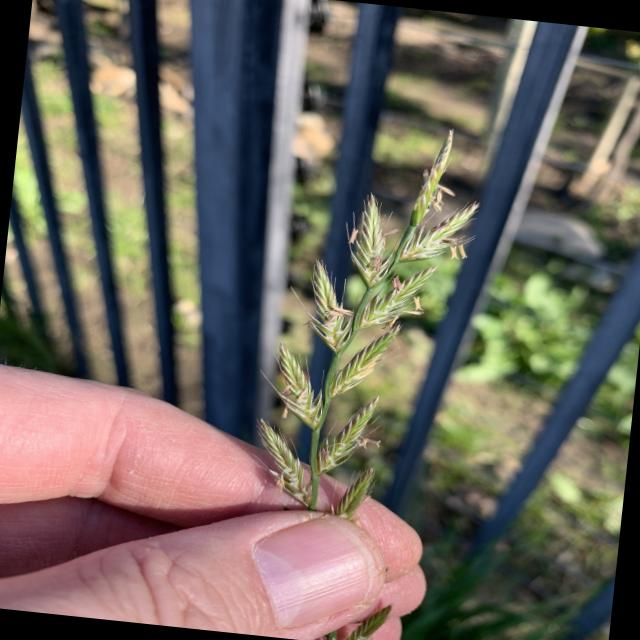Lolium: (241, 108, 491, 532)
